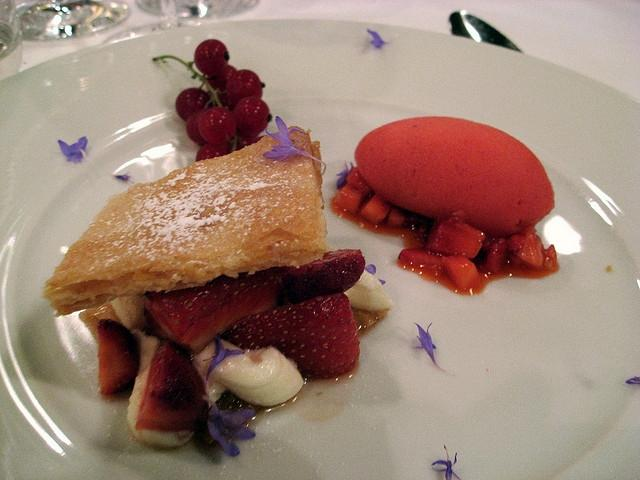banana: (128, 330, 195, 452), (209, 346, 304, 407), (343, 269, 398, 311), (111, 294, 149, 332)
strawberry: (146, 266, 288, 354), (222, 293, 361, 380), (135, 338, 209, 434), (280, 250, 366, 304), (98, 318, 140, 396), (426, 210, 486, 261), (398, 247, 449, 279), (507, 232, 544, 270), (444, 254, 481, 291), (360, 194, 390, 226), (335, 184, 366, 214), (346, 166, 374, 199), (486, 238, 509, 275)
